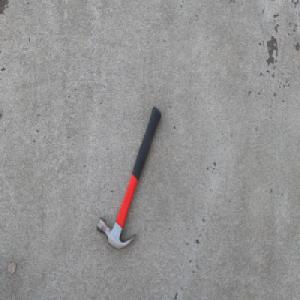Hammer: (95, 105, 162, 252)
